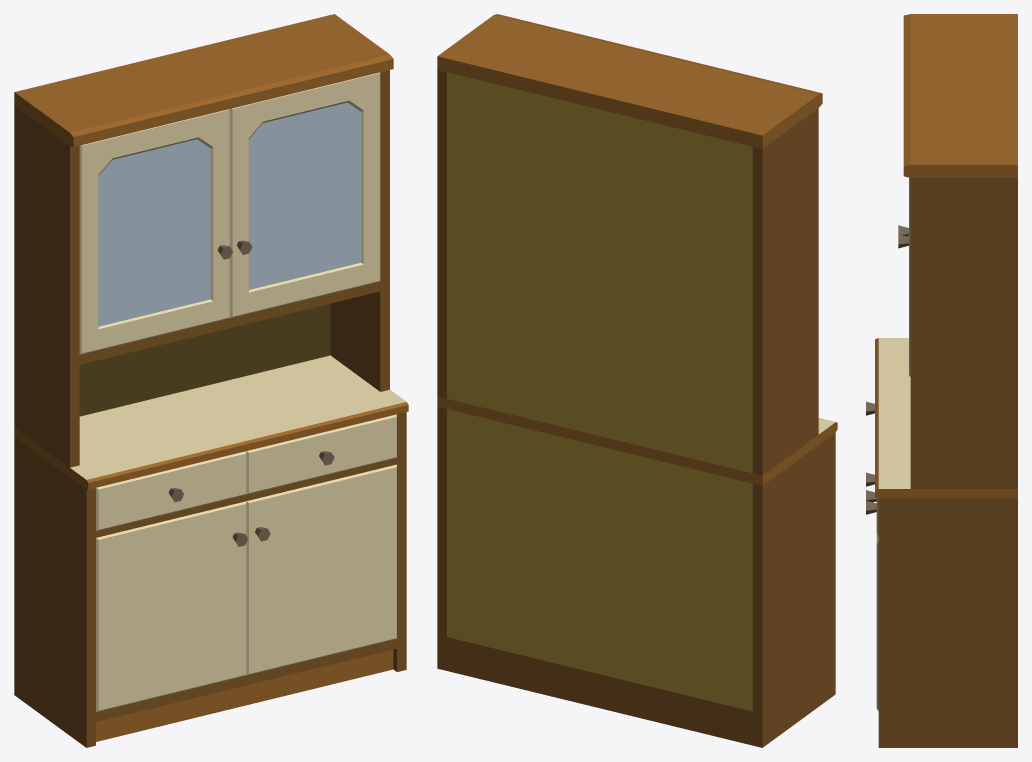
The model's file is cabinet01_open_1.fbx.
The picture shows the model from 3 angles, left to right: view 1: azimuth 30°, elevation 25°; view 2: azimuth 150°, elevation 25°; view 3: azimuth 270°, elevation 25°; orthographic projection. The views are drawn at different scales.
Parts seen in each view (by area): view 1: cabinet01_open_1, door2_1, door1_1, door4_1, door3_1, drawer2_1, drawer1_1; view 2: cabinet01_open_1; view 3: cabinet01_open_1, door3_1, door1_1.
Boxes of the visible parts, x1,y1,x2,y2 form: cabinet01_open_1: (14, 14, 408, 747); door2_1: (79, 109, 232, 354); door1_1: (230, 72, 380, 317); door4_1: (96, 501, 247, 711); door3_1: (246, 464, 396, 675); drawer2_1: (96, 451, 246, 530); drawer1_1: (246, 414, 396, 494); cabinet01_open_1: (437, 14, 837, 747); cabinet01_open_1: (875, 14, 1017, 747); door3_1: (866, 500, 878, 710); door1_1: (898, 177, 910, 376).
Size of the model in its own units: 100 by 180 by 42.5.
